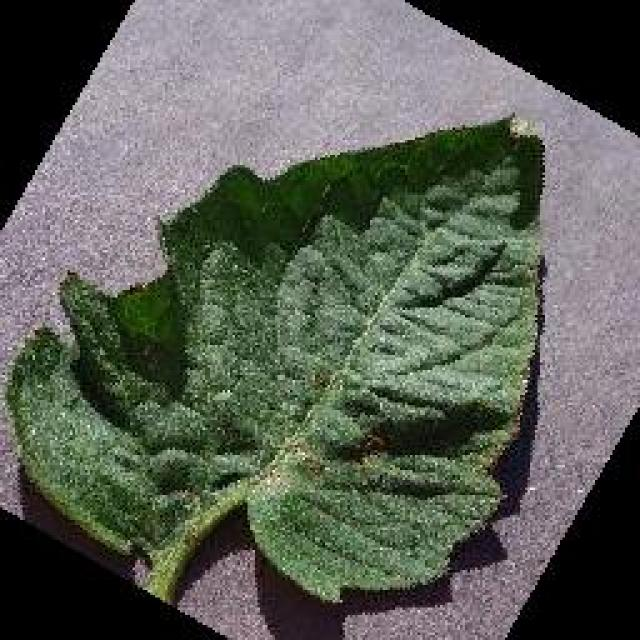Tomato___Target_Spot: (8, 118, 542, 602)
